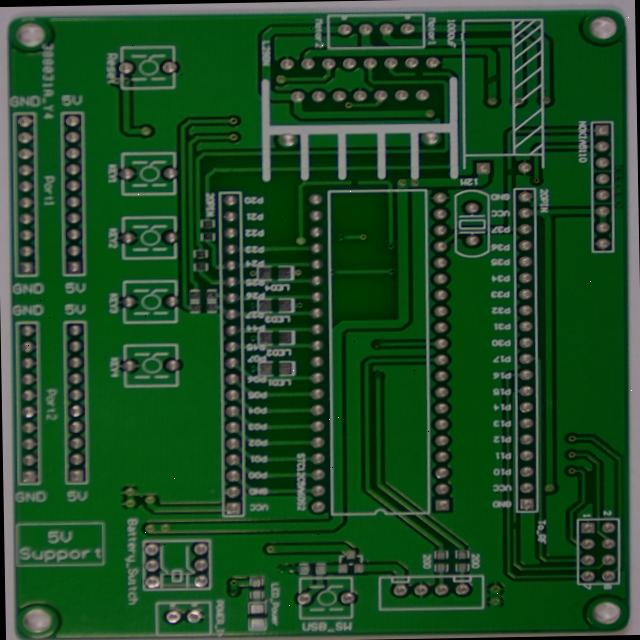open_circuit: (536, 32, 552, 52), (383, 146, 400, 157), (557, 133, 569, 147), (454, 31, 471, 40), (564, 511, 574, 522)
